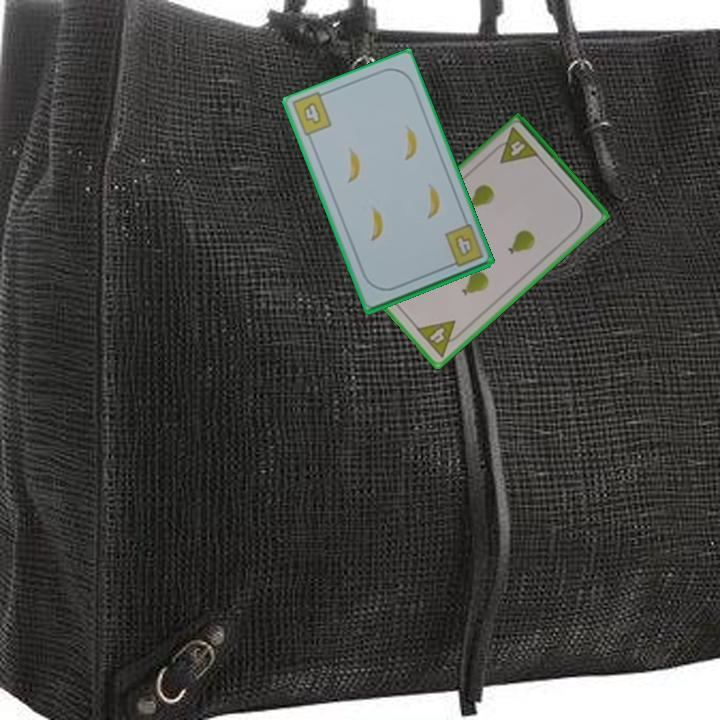4b: (441, 221, 486, 271), (299, 98, 324, 127)
4p: (412, 317, 467, 360), (489, 124, 542, 167)
